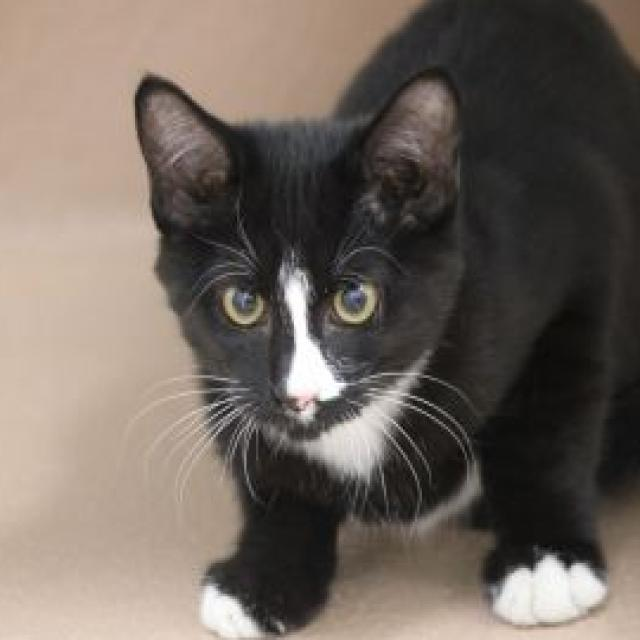Tuxedo: (130, 0, 640, 640)
